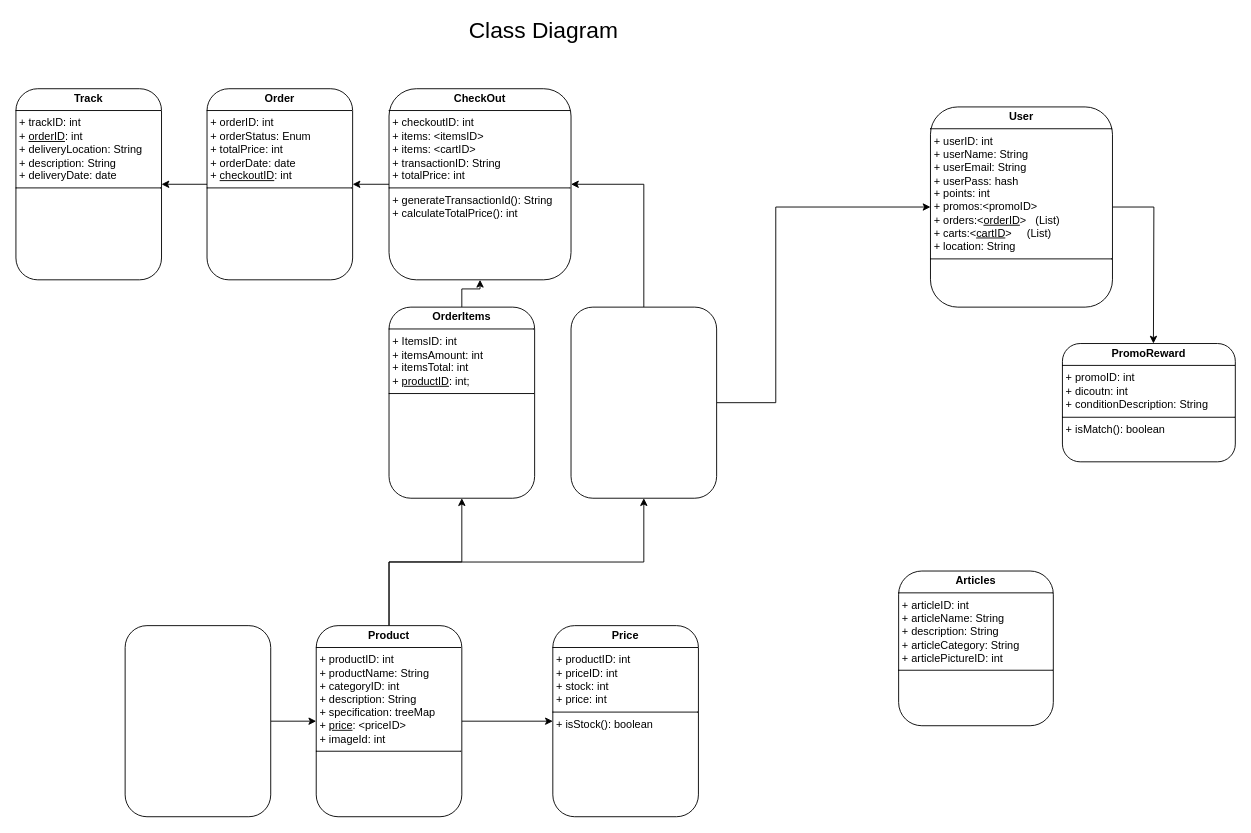
The diagram is 1251 pixels wide and 833 high, and some of its shapes have lost their labels. Here are the shapes that lost their labels. From the top down, the centre of each, then its label:
At pixel 643 402: "Cart + cartID: int + itemsAmount: int + itemsTotal: int + productID : int;".
At pixel 197 721: "Category + categoryID: int + categoryName: String + products: <productID>".
